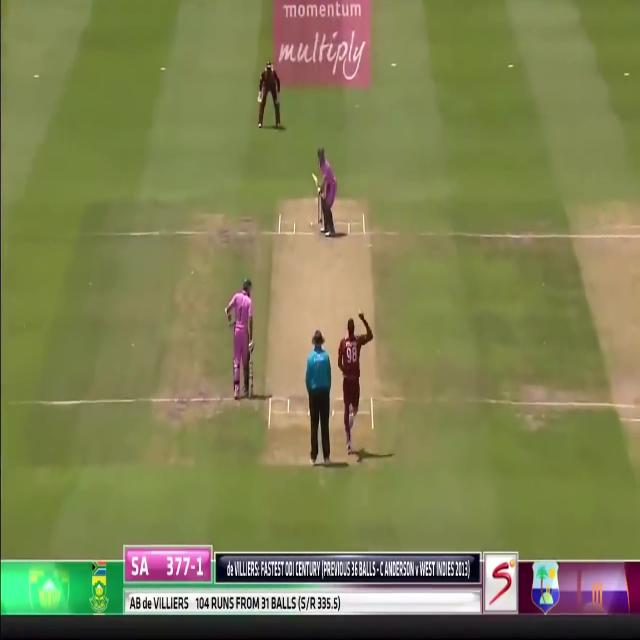Ball: (228, 276, 255, 400), (315, 147, 339, 236)
Fielder: (337, 310, 371, 458), (259, 64, 281, 128)
Umpire: (305, 328, 333, 467)
